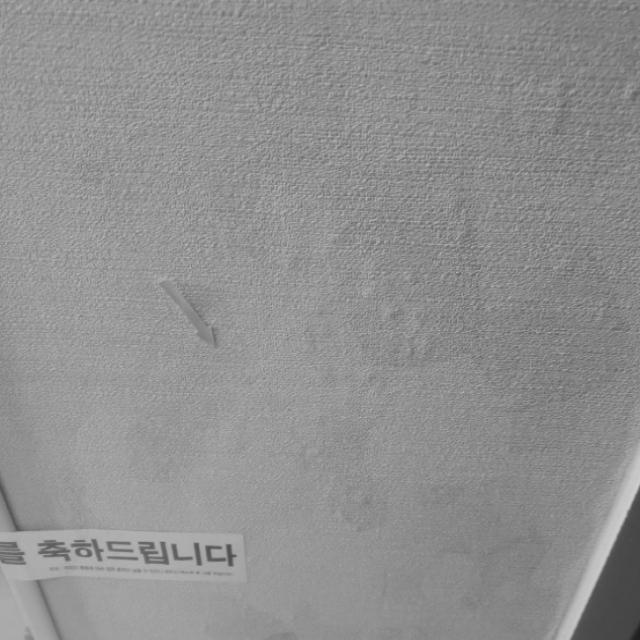stain marks: (288, 184, 624, 595)
